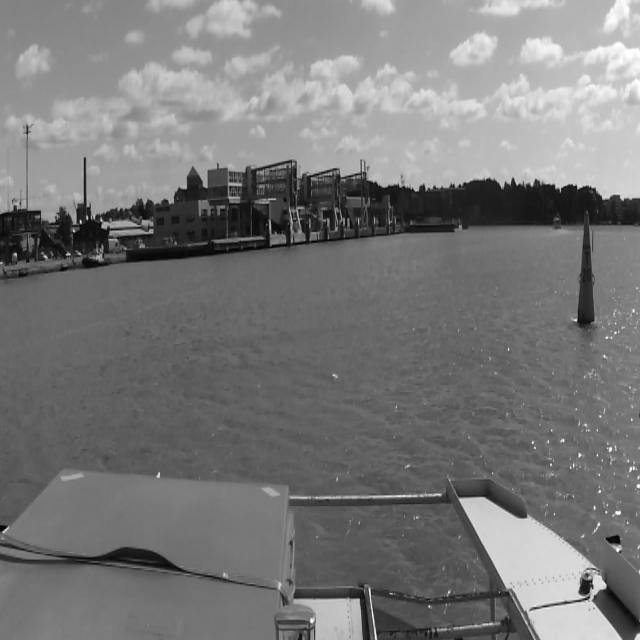buoy: (577, 212, 595, 324)
ship: (84, 252, 108, 266), (550, 214, 562, 230)
